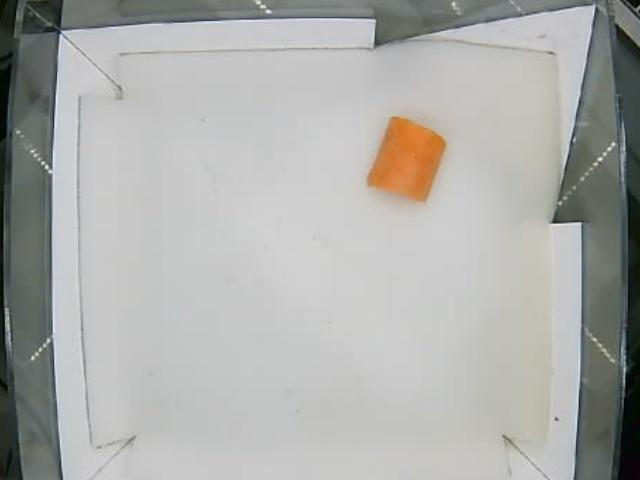Carrot: (366, 116, 446, 205)
